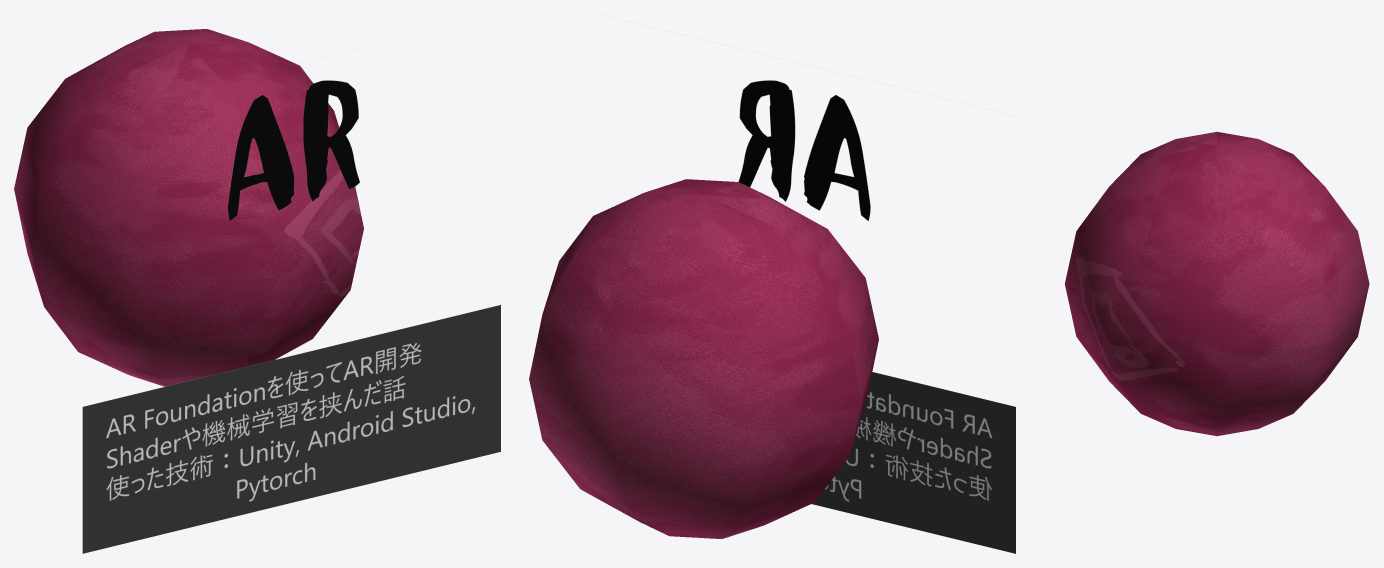
Rendered from arplanet.glb.
3 renders of one model, left to right at view 1: azimuth 30°, elevation 25°; view 2: azimuth 150°, elevation 25°; view 3: azimuth 270°, elevation 25°, orthographic. The views are drawn at different scales.
Parts seen in each view (by area): view 1: ARPlanet, ARPlane; view 2: ARPlanet, ARPlane; view 3: ARPlanet.
Boxes of the visible parts, x1,y1,x2,y2 form: ARPlanet: (14, 29, 363, 386); ARPlane: (82, 80, 500, 553); ARPlanet: (529, 179, 878, 538); ARPlane: (738, 80, 1015, 553); ARPlanet: (1065, 131, 1369, 436).
Bounding box in the file's own units: 4 × 4 × 3.2.
2 materials, 2 textured.
